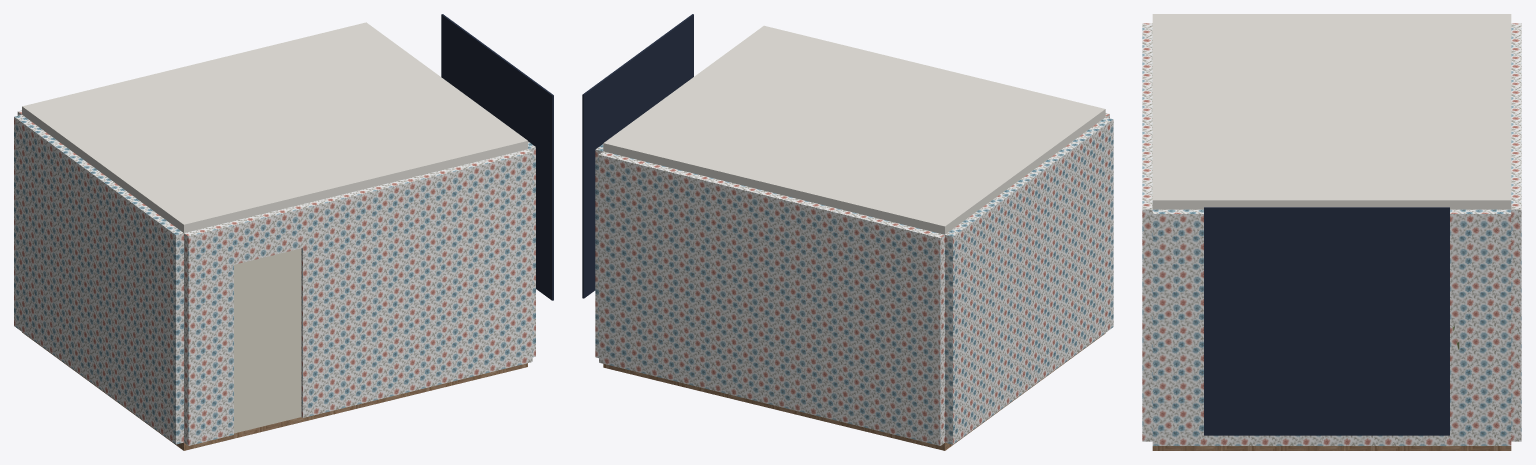
The model's file is living-room.glb.
3 renders of one model, left to right at view 1: azimuth 30°, elevation 25°; view 2: azimuth 150°, elevation 25°; view 3: azimuth 270°, elevation 25°, orthographic. The views are drawn at different scales.
Parts seen in each view (by area): view 1: RoomStatic; view 2: RoomStatic; view 3: RoomStatic.
Boxes of the visible parts, x1,y1,x2,y2 form: RoomStatic: (14, 14, 553, 450); RoomStatic: (582, 14, 1113, 450); RoomStatic: (1142, 14, 1521, 450).
Size of the model in its own units: 5.01 by 2.9 by 3.7.
Materials: 91 (39 with a texture image).
